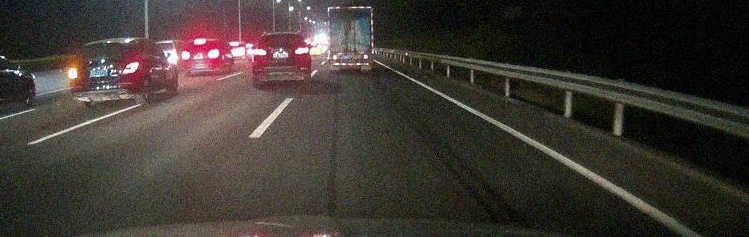L_light: (68, 67, 78, 79), (252, 49, 266, 55), (182, 51, 191, 60), (332, 54, 342, 59)
R_light: (122, 62, 139, 74), (208, 49, 219, 59), (295, 47, 309, 54), (358, 54, 369, 59)
T_light: (194, 38, 206, 45), (97, 42, 109, 44), (276, 33, 288, 35), (344, 8, 352, 10)
night-brake: (182, 38, 222, 76)
night-left: (68, 39, 141, 106)
night-no: (252, 32, 311, 86), (327, 6, 375, 72)
